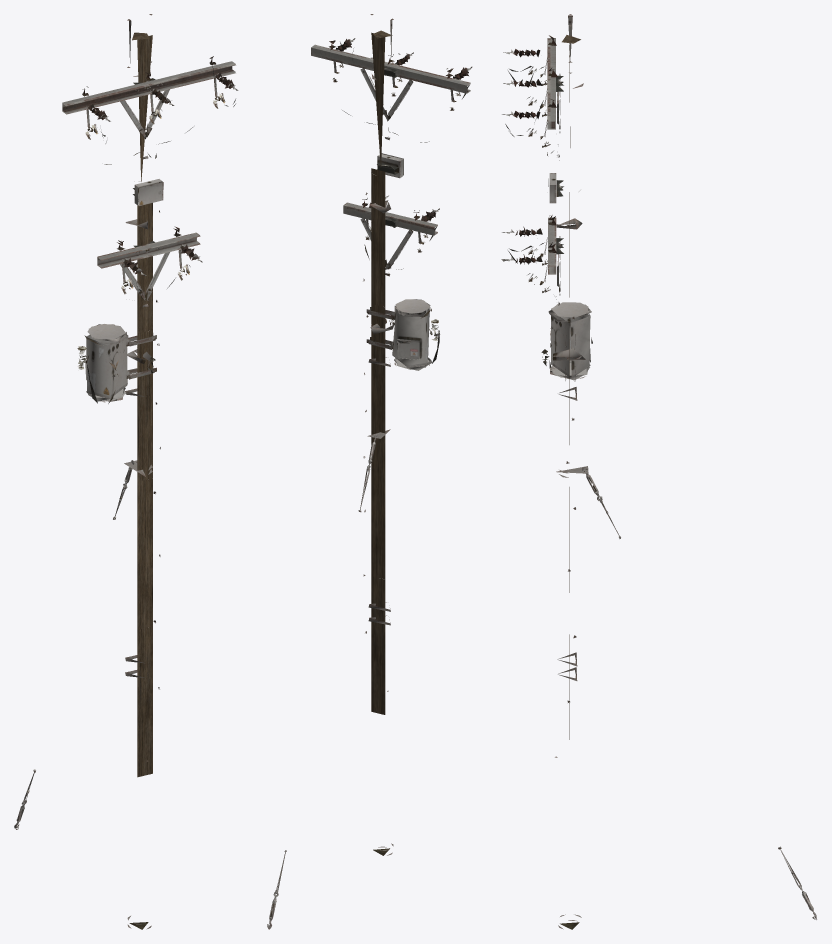
Rendered from ph_power_pole_03.fbx.
3 views of the same model, side by side, from view 1: azimuth 30°, elevation 25°; view 2: azimuth 150°, elevation 25°; view 3: azimuth 270°, elevation 25° (orthographic). The views are drawn at different scales.
Parts seen in each view (by area): view 1: ph_power_pole_03_LOD0; view 2: ph_power_pole_03_LOD0; view 3: ph_power_pole_03_LOD0.
Part boxes in pixels (x1,y1,x2,y2): ph_power_pole_03_LOD0: (14,14,238,929); ph_power_pole_03_LOD0: (267,14,472,929); ph_power_pole_03_LOD0: (501,14,816,929).
Size of what is drawn, in the model's own units: 1.2 by 6.13 by 1.95.
